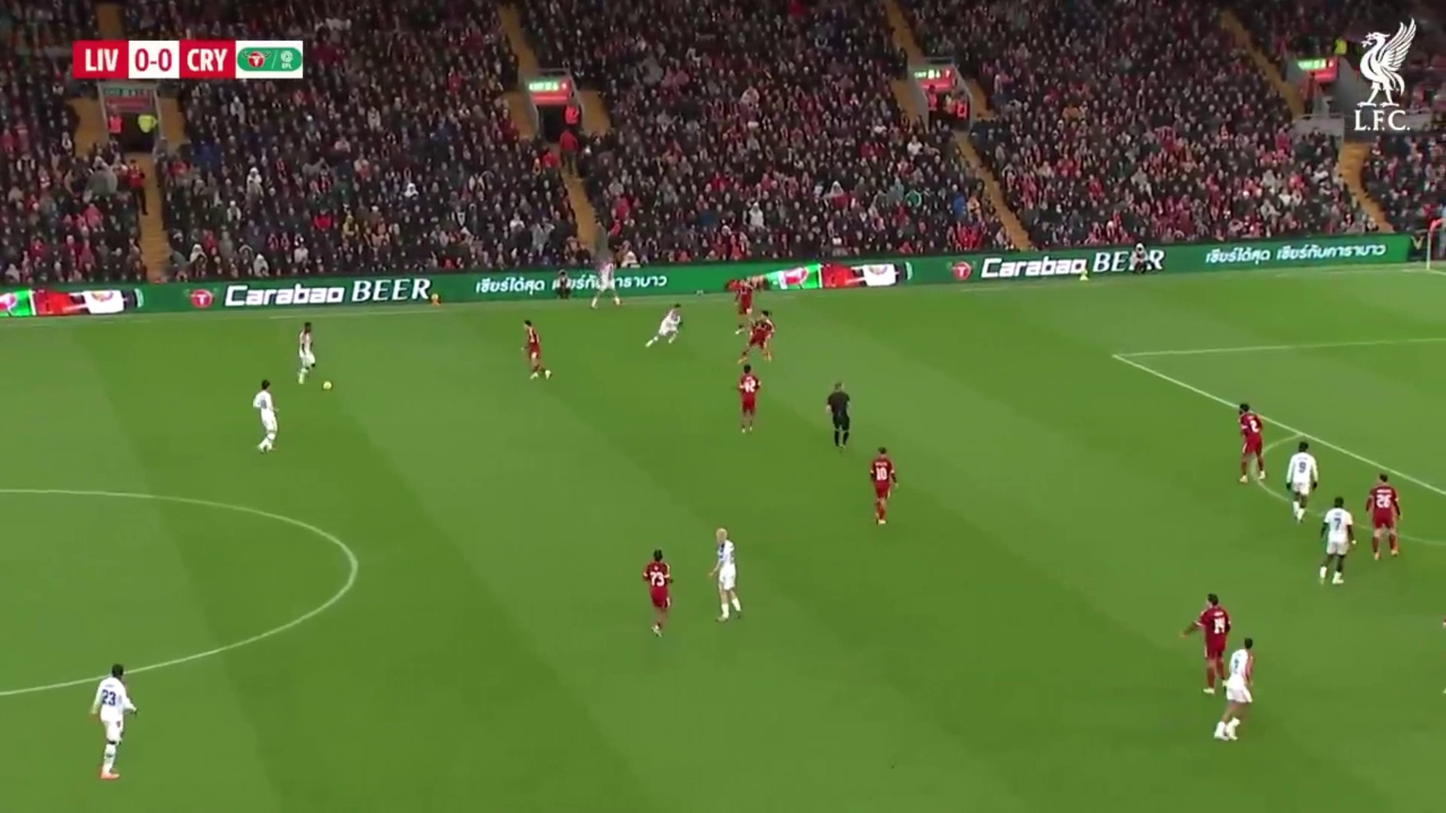player: (91, 662, 135, 782), (1181, 592, 1232, 695), (1212, 640, 1256, 742), (1195, 592, 1231, 694), (1318, 498, 1356, 587), (1367, 474, 1401, 561), (1285, 442, 1320, 524), (712, 528, 742, 623), (643, 548, 671, 638), (1237, 402, 1267, 484), (867, 446, 896, 529), (824, 380, 852, 449), (252, 380, 278, 454), (521, 318, 549, 380), (737, 362, 760, 435), (295, 322, 318, 385), (752, 311, 777, 359), (660, 304, 685, 347)
